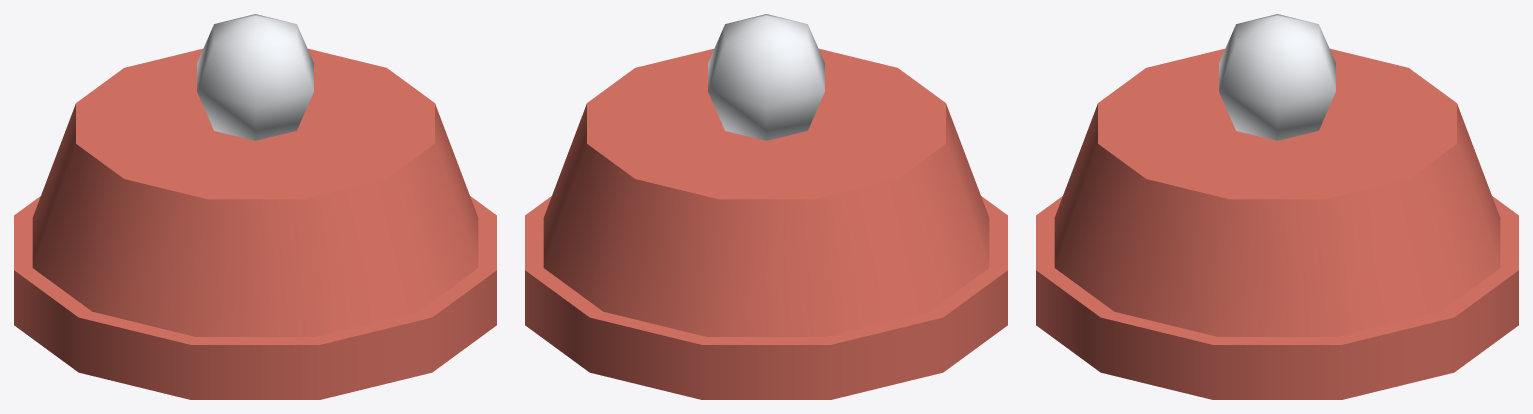
File: CM_Accessory_Beanie_Red.fbx
3 renders of one model, left to right at view 1: azimuth 30°, elevation 25°; view 2: azimuth 150°, elevation 25°; view 3: azimuth 270°, elevation 25°, orthographic.
Visible parts, largest first — view 1: Handle; view 2: Handle; view 3: Handle.
Part boxes in pixels (box(x1,y1,x2,y2)): Handle: box(14, 14, 496, 399); Handle: box(525, 14, 1007, 399); Handle: box(1036, 14, 1518, 399).
Bounding box in the file's own units: 1.43 × 1.43 × 0.92.
1 material, 1 textured.
